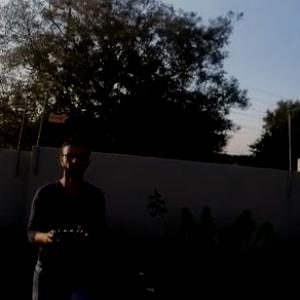follow: (20, 130, 109, 299)
